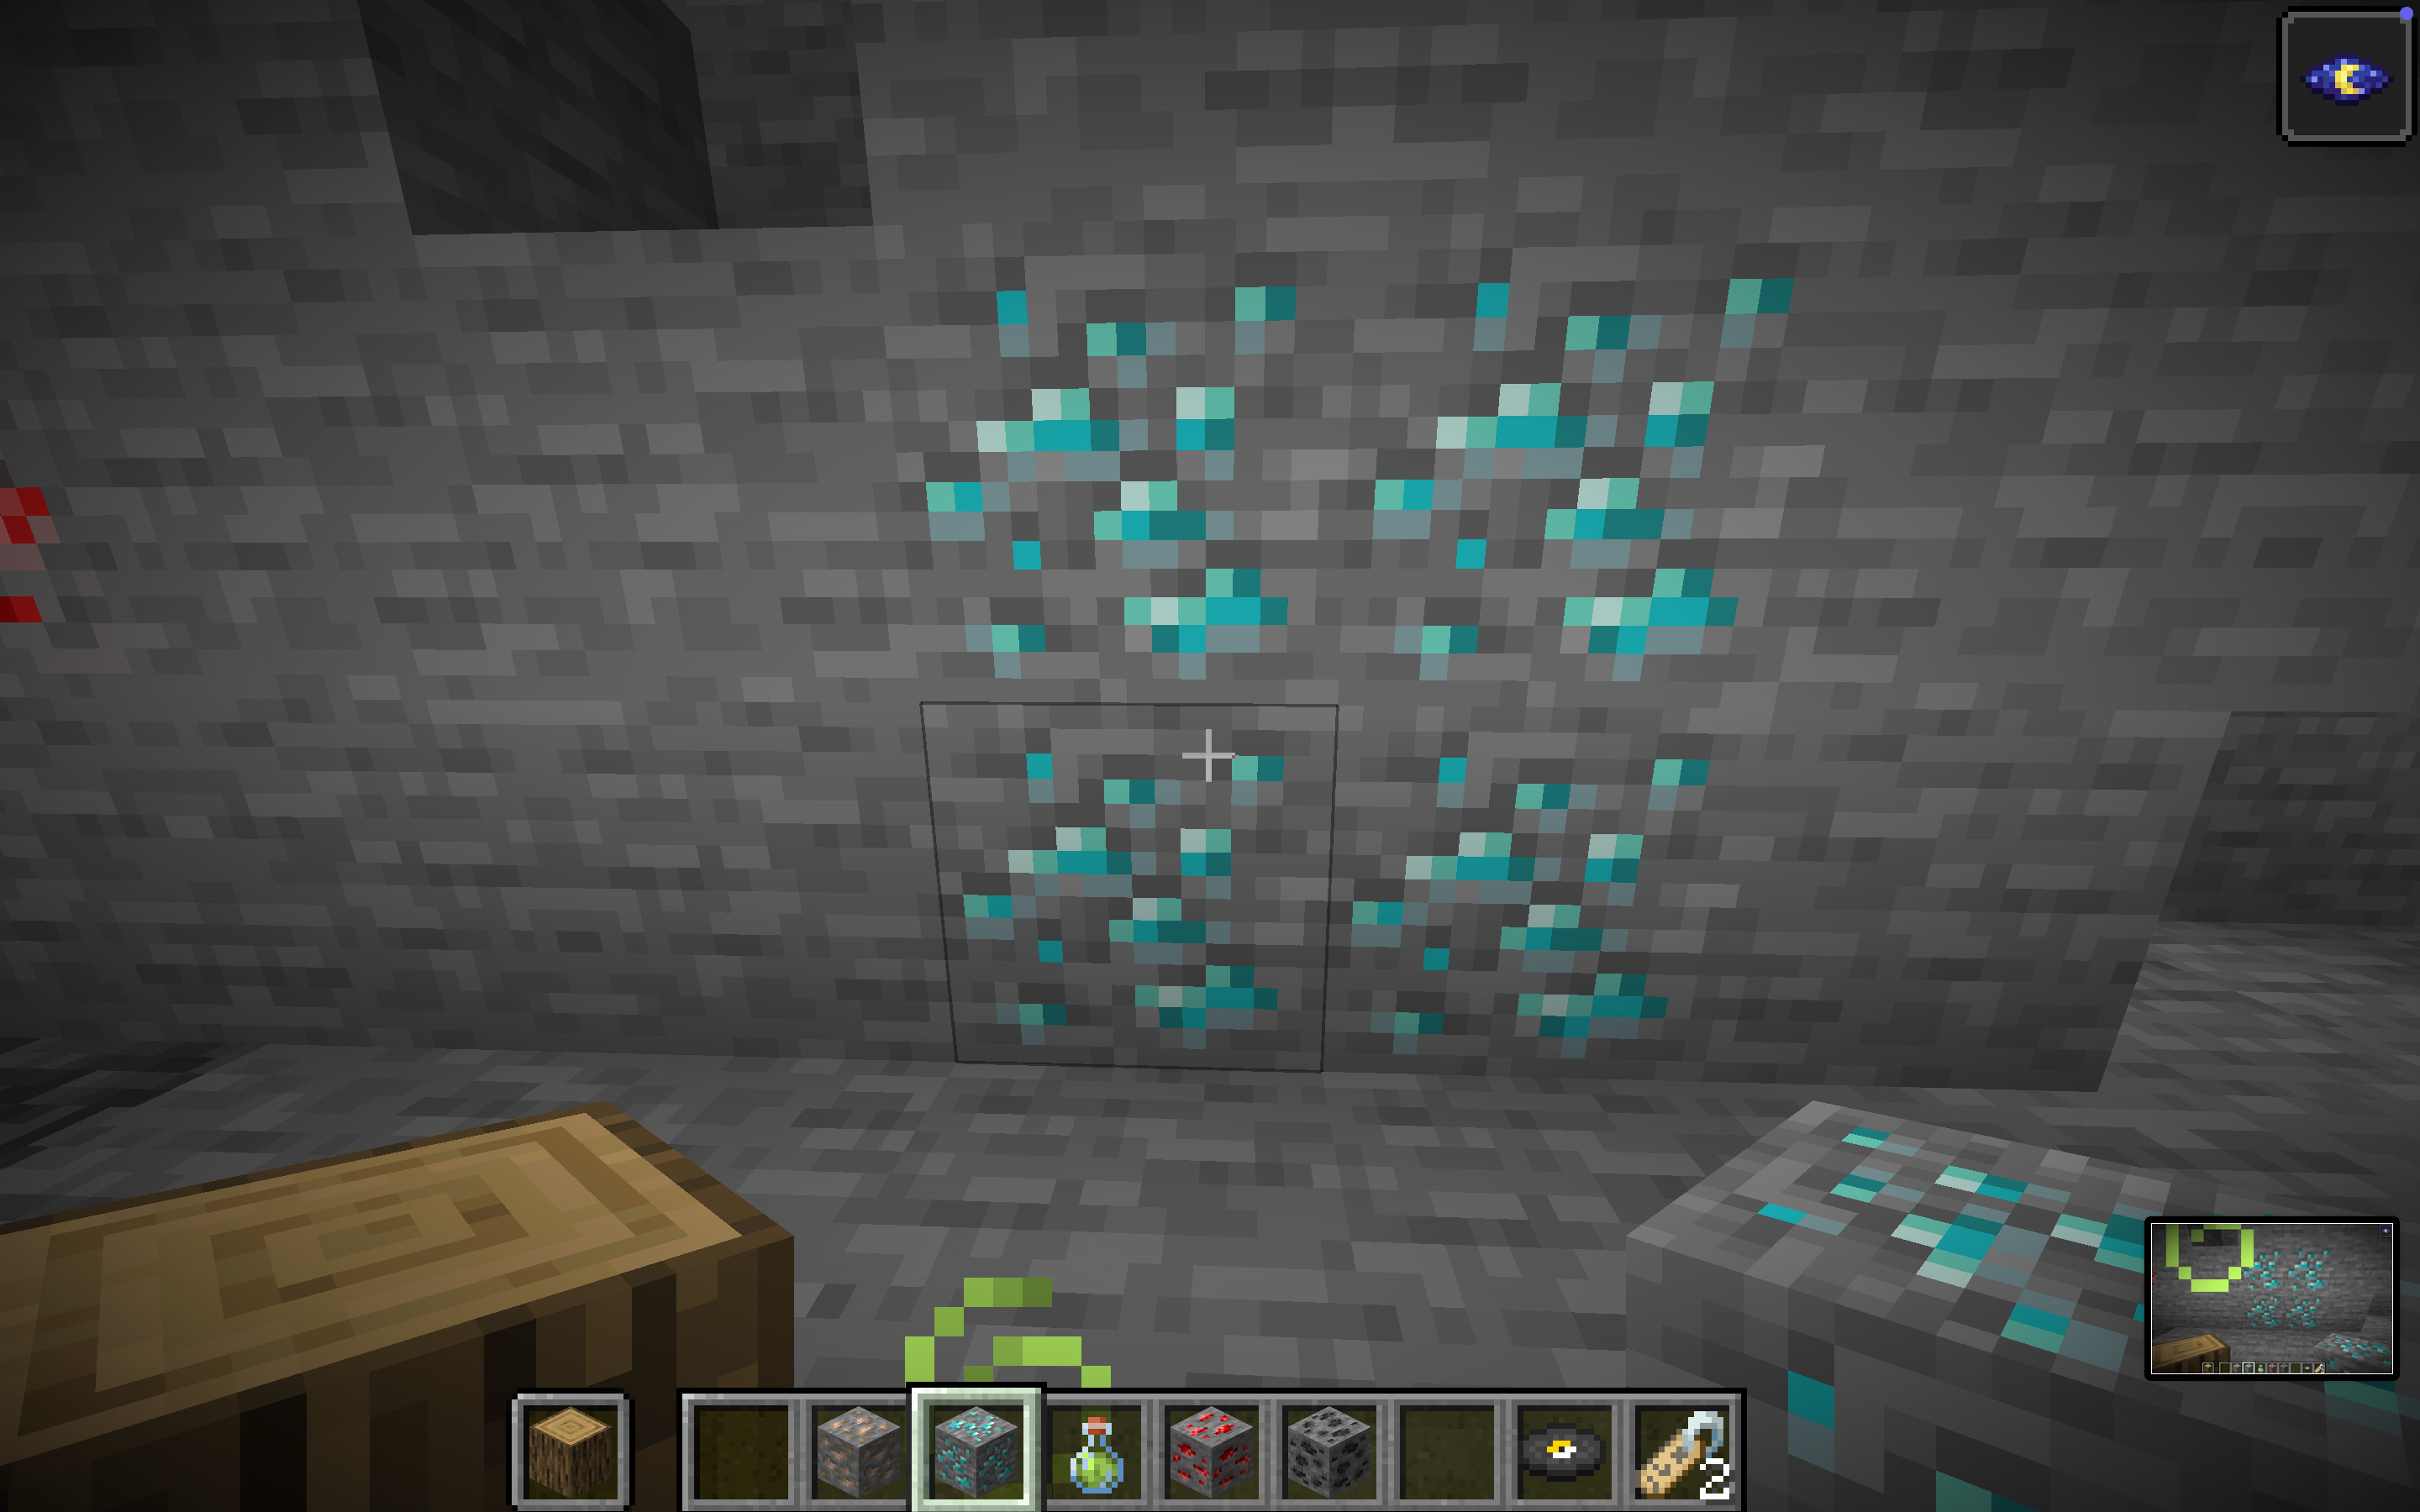diamond: (493, 139, 2110, 1106)
